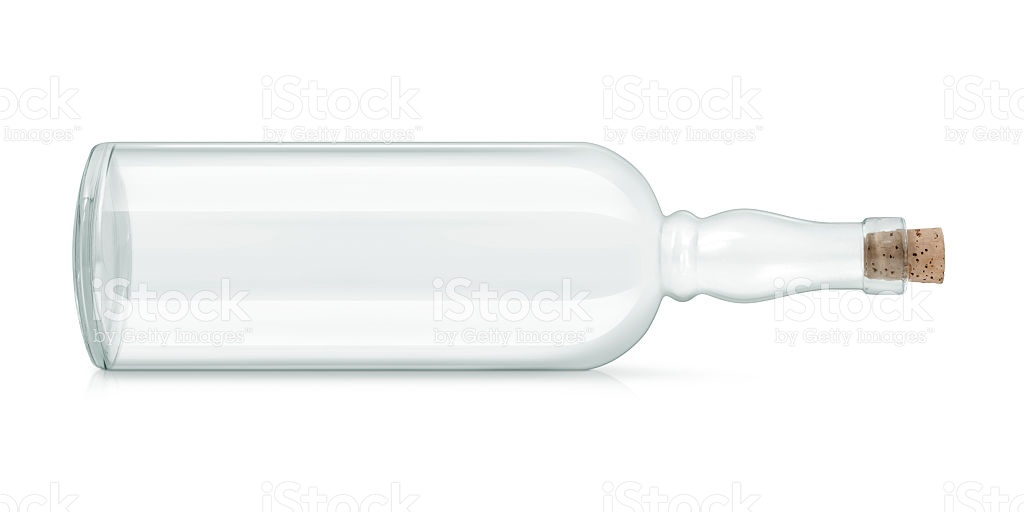emptybottle: (73, 142, 946, 369)
